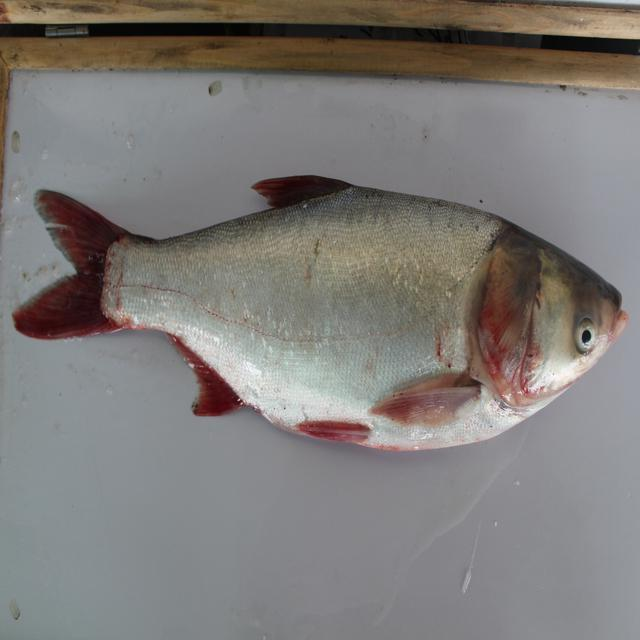SilverCarp: (29, 170, 622, 445)
